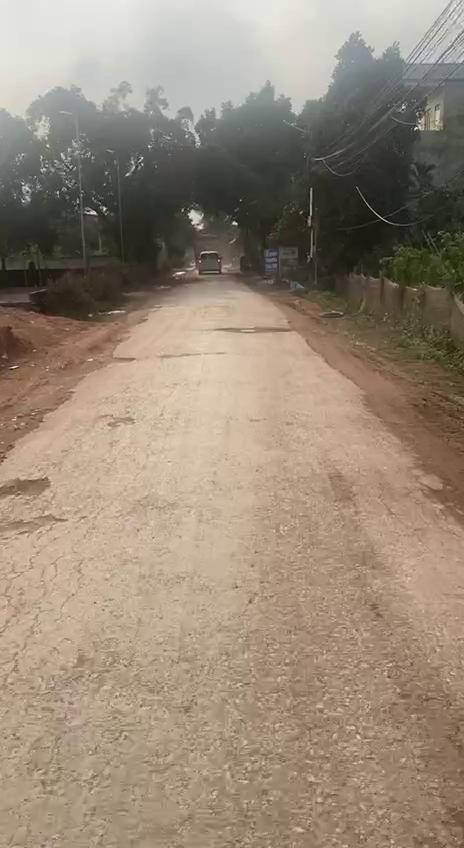pothole: (0, 467, 54, 496)
